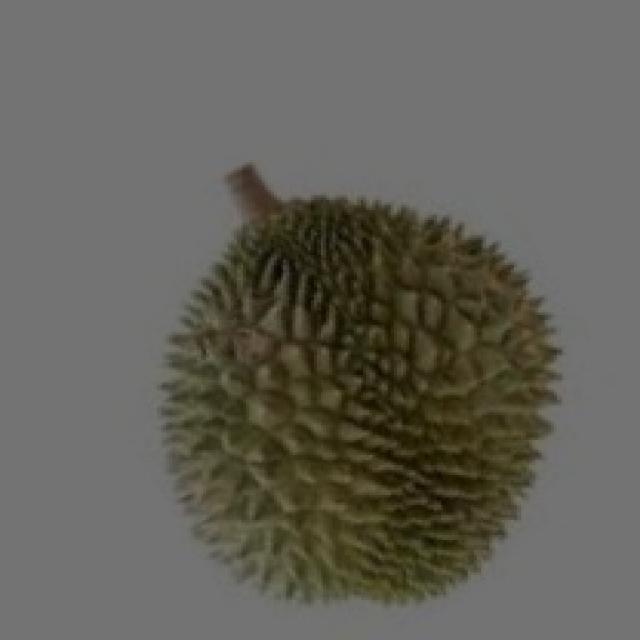fruit: (104, 210, 462, 638)
